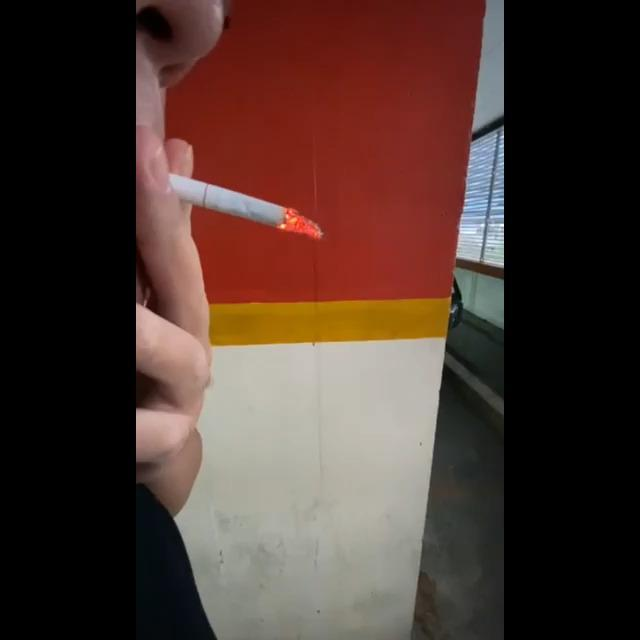rokok: (162, 156, 330, 256)
